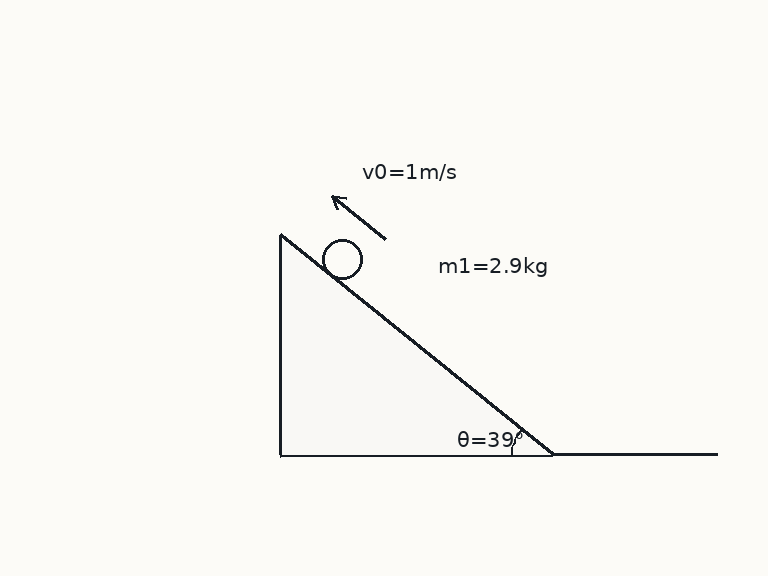ball: (320, 237, 364, 281)
ramp: (278, 233, 554, 457)
